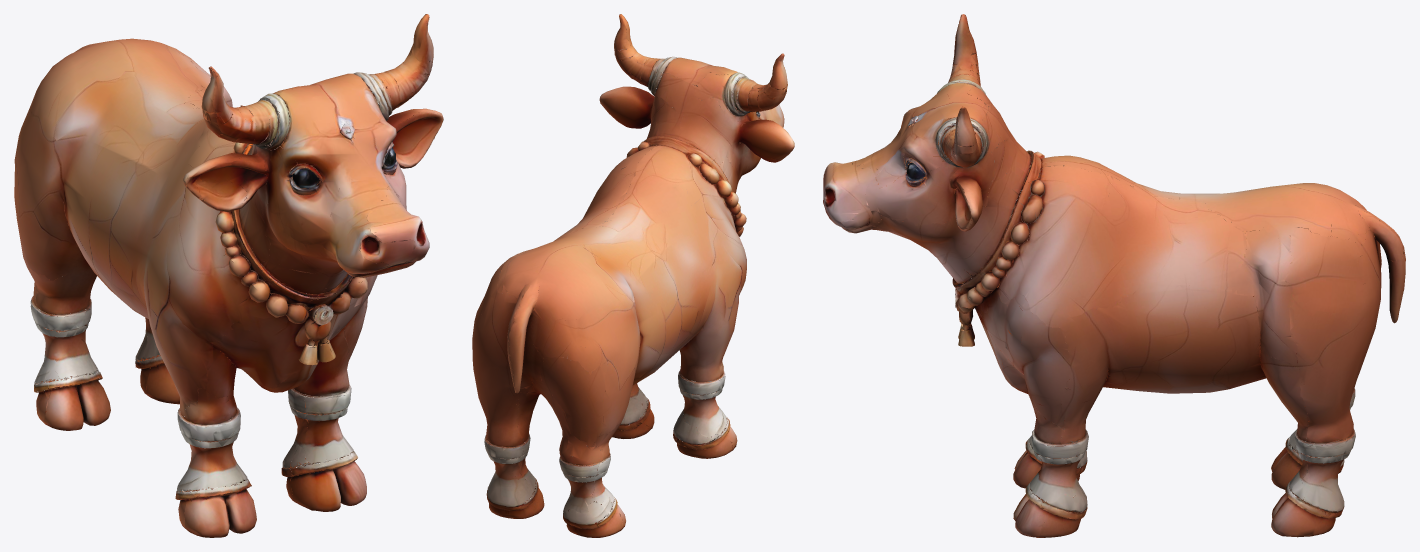
Rendered from bull.glb.
The picture shows the model from 3 angles, left to right: view 1: azimuth 30°, elevation 25°; view 2: azimuth 150°, elevation 25°; view 3: azimuth 270°, elevation 25°; orthographic projection. The views are drawn at different scales.
Parts seen in each view (by area): view 1: model; view 2: model; view 3: model.
Part boxes in pixels (x1,y1,x2,y2): model: (14, 14, 443, 537); model: (472, 14, 794, 537); model: (823, 14, 1405, 537).
Bounding box in the file's own units: 0.8049 × 1.5 × 1.79.
Materials: 1 (1 with a texture image).
